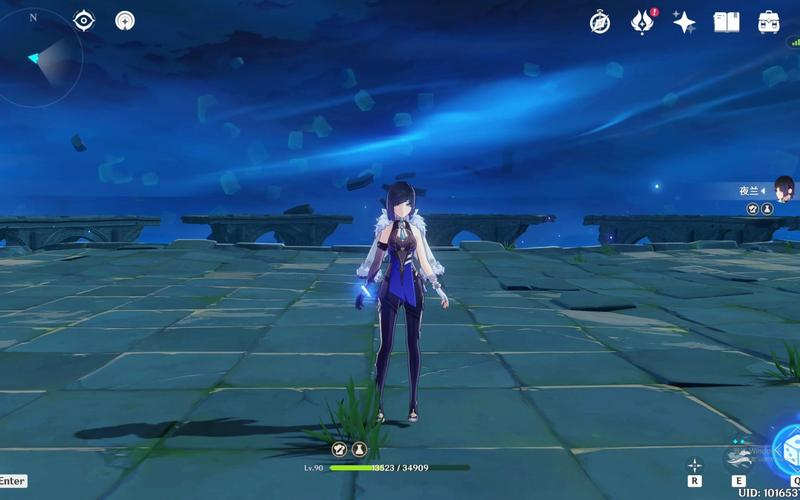夜兰: (348, 180, 452, 421)
